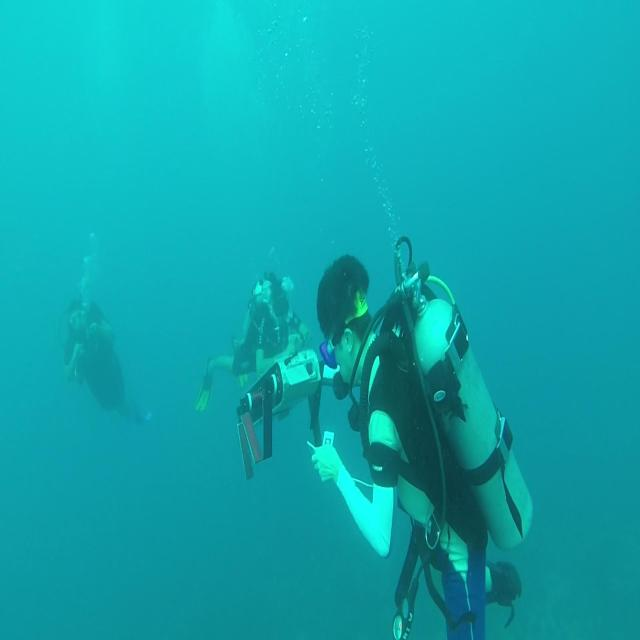human: (308, 248, 533, 638), (195, 270, 309, 413), (60, 294, 152, 426)
